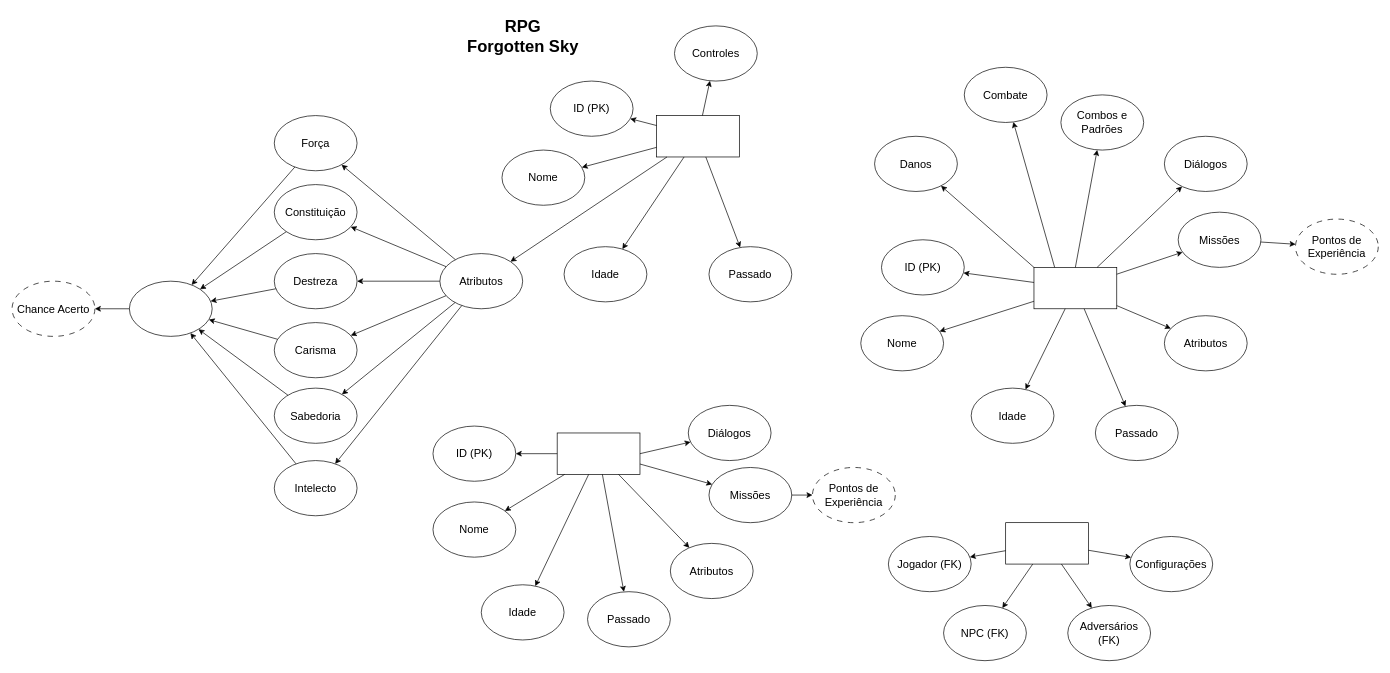
The diagram is 1390 pixels wide and 673 high, and some of its shapes have lost their labels. The box of each missing label's shape, as (x1, y1, x2, y2) in pixels:
Adversários: (1033, 267, 1117, 309)
Jogador: (656, 115, 739, 157)
Jogo: (1005, 522, 1088, 564)
NPCs: (556, 432, 640, 474)
Níveis: (129, 280, 212, 336)
